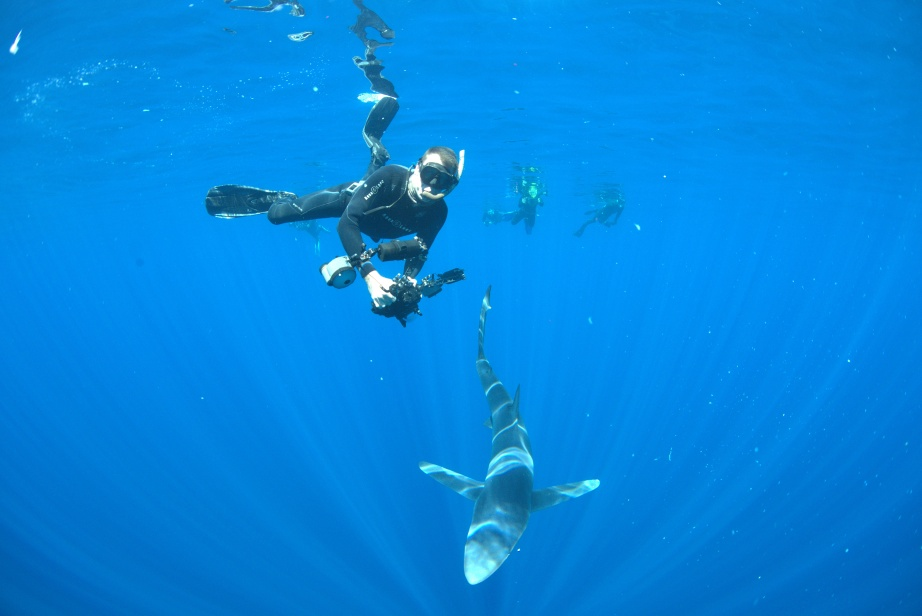Azul: (371, 273, 670, 616)
